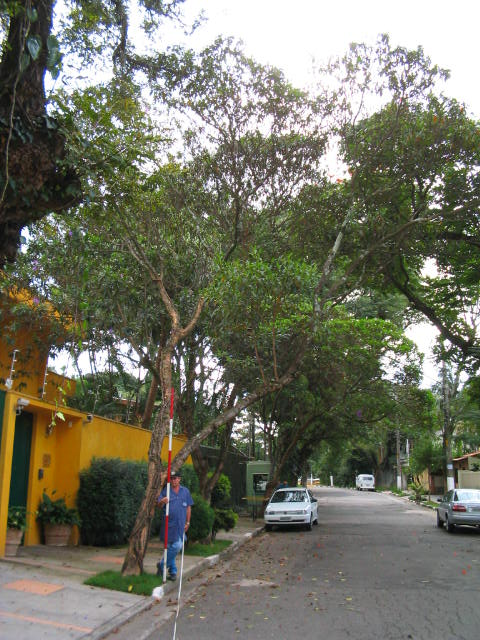stem: (116, 466, 163, 575)
stick: (158, 384, 176, 582)
tree: (82, 88, 416, 580)
